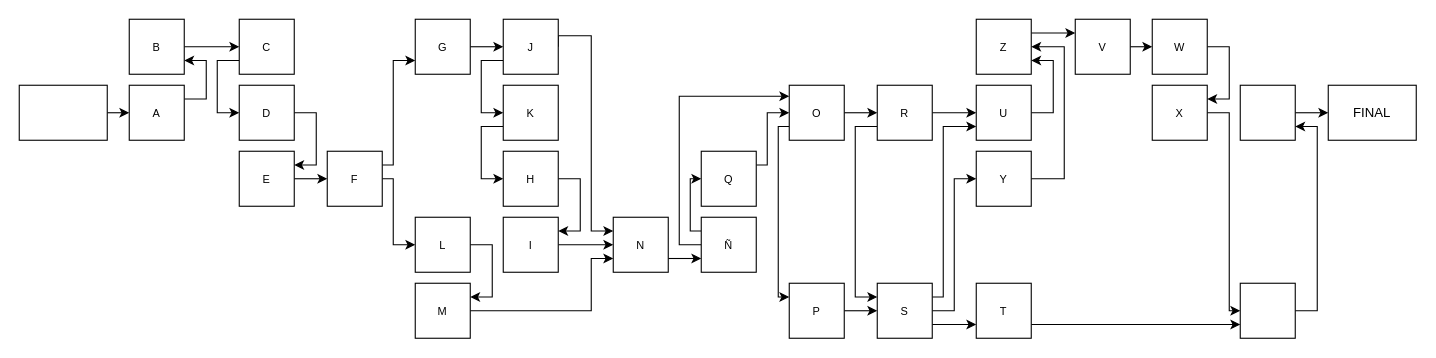
This 1436x358 diagram has some shape labels left out. The shapes that lost their labels are listed below. From the top down, each one's box as (x1, y1, x2, y2) in pixels, then its label:
(18, 84, 107, 140): INICIO
(1239, 84, 1295, 140): AB
(1239, 282, 1295, 338): AA
